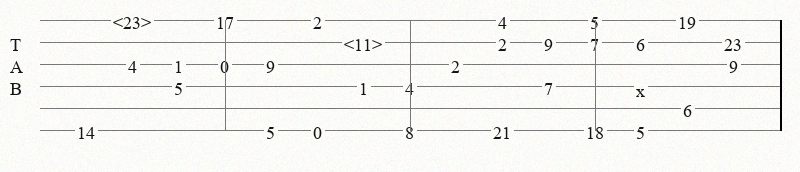0: (220, 56, 233, 72), (313, 122, 326, 138)
1: (174, 56, 187, 72), (359, 78, 372, 94)
14: (77, 122, 99, 138)
17: (216, 12, 238, 28)
18: (586, 122, 608, 138)
19: (678, 12, 700, 28)
2: (313, 12, 326, 28), (451, 56, 464, 72), (498, 34, 511, 50)
21: (493, 122, 515, 138)
23: (724, 34, 746, 50)
4: (128, 56, 141, 72), (405, 78, 418, 94), (498, 12, 511, 28)
5: (174, 78, 187, 94), (266, 122, 279, 138), (590, 12, 603, 28), (636, 122, 649, 138)
6: (636, 34, 649, 50), (683, 100, 696, 116)
7: (544, 78, 557, 94), (590, 34, 603, 50)
8: (405, 122, 418, 138)
9: (266, 56, 279, 72), (544, 34, 557, 50), (729, 56, 742, 72)
harmonic: (113, 12, 155, 28), (344, 34, 386, 50)
x: (636, 80, 649, 92)
